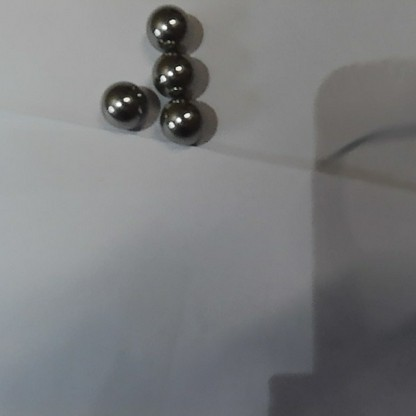ironball: (96, 76, 150, 135), (143, 3, 196, 55), (154, 95, 204, 150), (148, 52, 197, 95)
